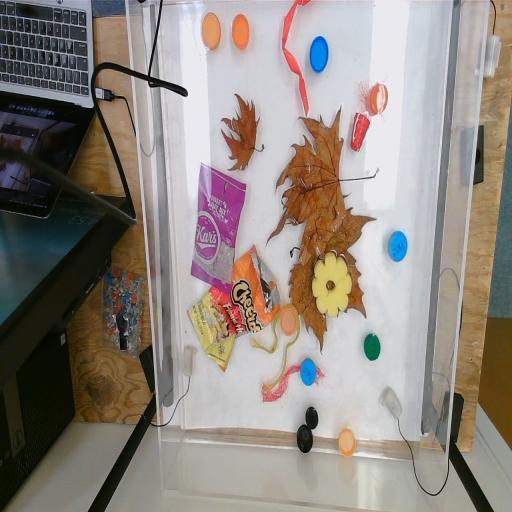Bottle Cap: (308, 34, 330, 74), (202, 12, 222, 50), (388, 230, 408, 264), (232, 13, 250, 50), (370, 82, 388, 116), (363, 332, 381, 362), (296, 424, 314, 454), (338, 428, 356, 458), (280, 309, 297, 336), (300, 358, 316, 386), (305, 406, 318, 430)
Cone Cap: (350, 110, 372, 153)
Leaf: (264, 103, 380, 248), (288, 188, 378, 356), (220, 92, 265, 172)
Netting: (261, 362, 332, 404), (355, 74, 390, 126)
Plastic Bag: (186, 242, 281, 374), (190, 160, 246, 296)
Plastic Strand: (250, 302, 300, 392), (282, 0, 312, 118)
Sponge: (311, 249, 352, 318)
